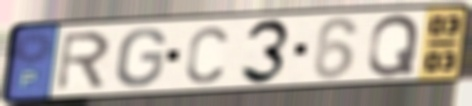3: (235, 17, 295, 86)
6: (310, 15, 363, 82)
C: (183, 24, 230, 86)
G: (113, 26, 169, 89)
Q: (365, 12, 422, 79)
R: (54, 29, 114, 93)
